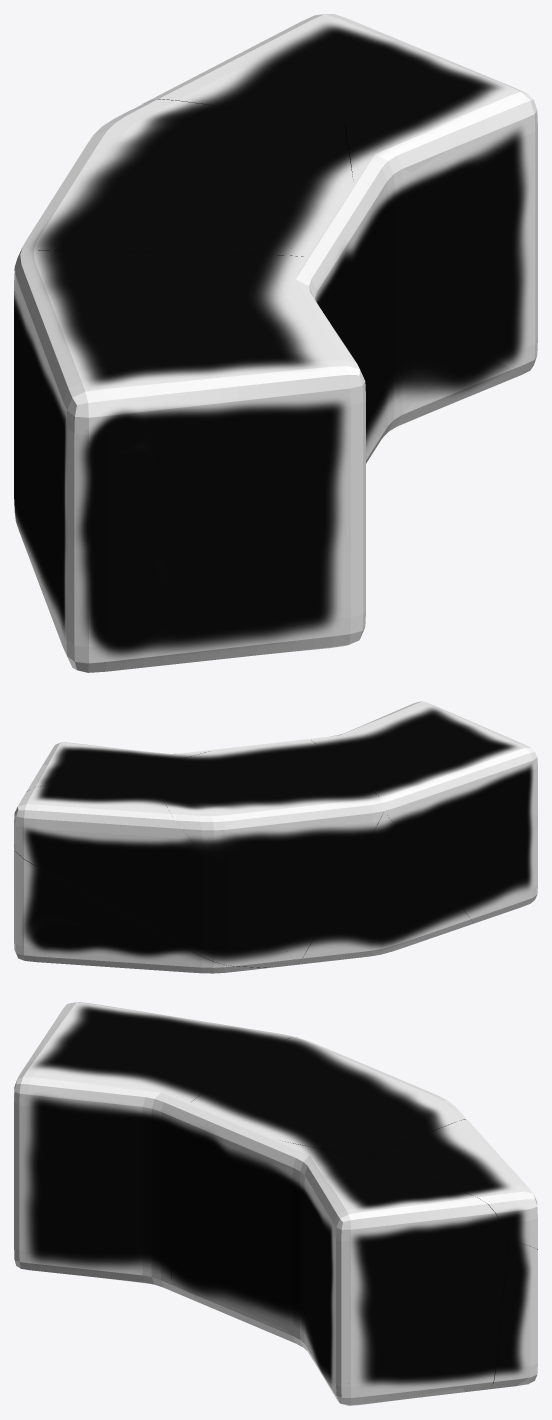
File: curvedbrick.fbx_Scene.fbx
3 views of the same model, one above another, from view 1: azimuth 30°, elevation 25°; view 2: azimuth 150°, elevation 25°; view 3: azimuth 270°, elevation 25° (orthographic). The views are drawn at different scales.
Parts seen in each view (by area): view 1: Cube_cell.003, Cube_cell.002, Cube_cell.005, Cube_cell.001, Cube, Cube_cell.004, Cube.001; view 2: Cube_cell.005, Cube_cell.003, Cube_cell.001, Cube_cell.004, Cube_cell, Cube_cell.002, Cube, Cube.001; view 3: Cube_cell.002, Cube_cell.003, Cube_cell.005, Cube_cell.001, Cube, Cube_cell, Cube_cell.004, Cube.001.
Boxes of the visible parts, x1,y1,x2,y2 form: Cube_cell.003: (14, 250, 365, 672); Cube_cell.002: (329, 32, 537, 454); Cube_cell.005: (14, 99, 353, 318); Cube_cell.001: (143, 14, 378, 122); Cube: (15, 32, 536, 672); Cube_cell.004: (14, 269, 43, 595); Cube.001: (15, 187, 462, 456); Cube_cell.005: (147, 739, 383, 962); Cube_cell.003: (310, 701, 537, 923); Cube_cell.001: (14, 769, 297, 967); Cube_cell.004: (297, 812, 473, 964); Cube_cell: (14, 844, 267, 973); Cube_cell.002: (26, 742, 212, 791); Cube: (14, 735, 537, 973); Cube.001: (15, 712, 535, 973); Cube_cell.002: (172, 1140, 508, 1405); Cube_cell.003: (14, 1002, 294, 1277); Cube_cell.005: (182, 1037, 466, 1157); Cube_cell.001: (364, 1119, 537, 1249); Cube: (14, 1077, 537, 1404); Cube_cell: (490, 1240, 537, 1389); Cube_cell.004: (96, 1185, 175, 1280); Cube.001: (17, 1002, 536, 1405).
Size of the model in its own units: 294 by 120 by 294.
